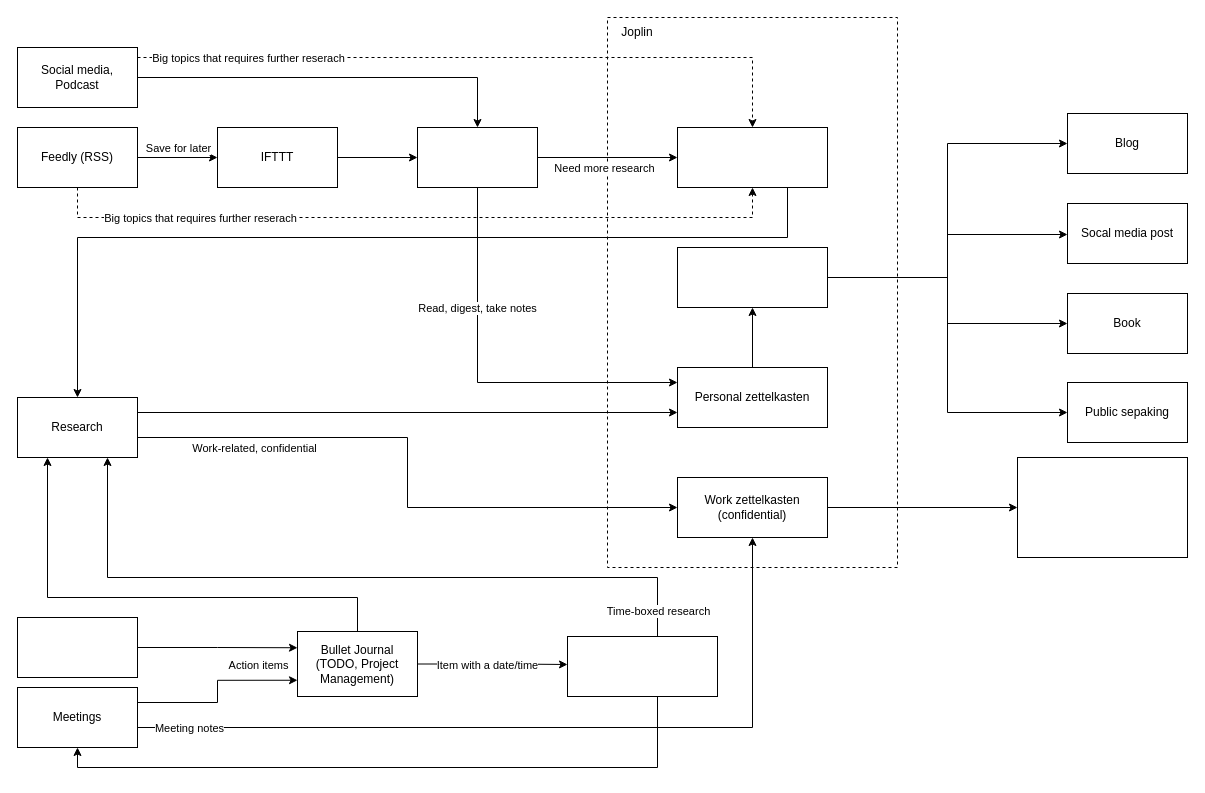
Some shapes in this 1205 by 793 pixel diagram are drawn without their labels. The centre of each missing label's shape, as x and y in pixels:
Email: point (77, 647)
Google Calendar Outlook Calendar (Work): point (642, 666)
Kanban - Learning: point (752, 157)
Kanban - Writing ideas: point (752, 277)
Pocket (Read later): point (477, 157)
Work deliverables (Email, Architecture Design, Blog, Public Speaking): point (1102, 507)
